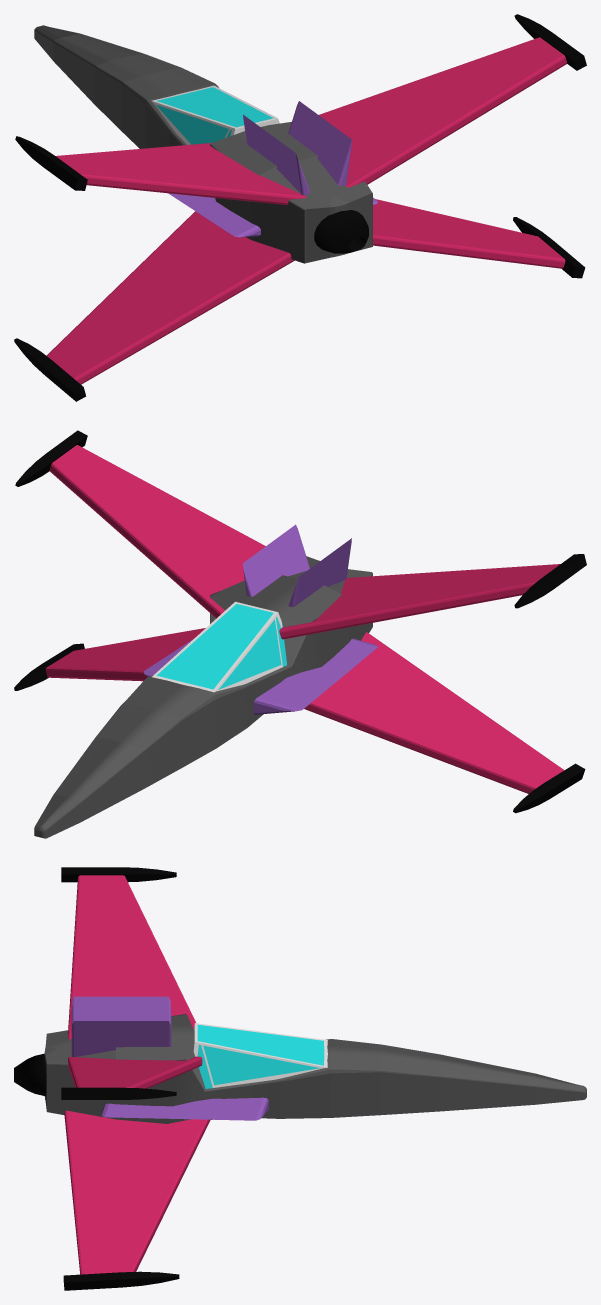
The model's file is UV_XWing_1.fbx.
3 views of the same model, one above another, from view 1: azimuth 30°, elevation 25°; view 2: azimuth 150°, elevation 25°; view 3: azimuth 270°, elevation 25° (orthographic). The views are drawn at different scales.
Visible parts, largest first — view 1: Xwing; view 2: Xwing; view 3: Xwing.
Boxes of the visible parts, x1,y1,x2,y2 form: Xwing: [14, 14, 586, 401]; Xwing: [14, 430, 586, 838]; Xwing: [14, 867, 586, 1290].
Bounding box in the file's own units: 738 × 309 × 795.
